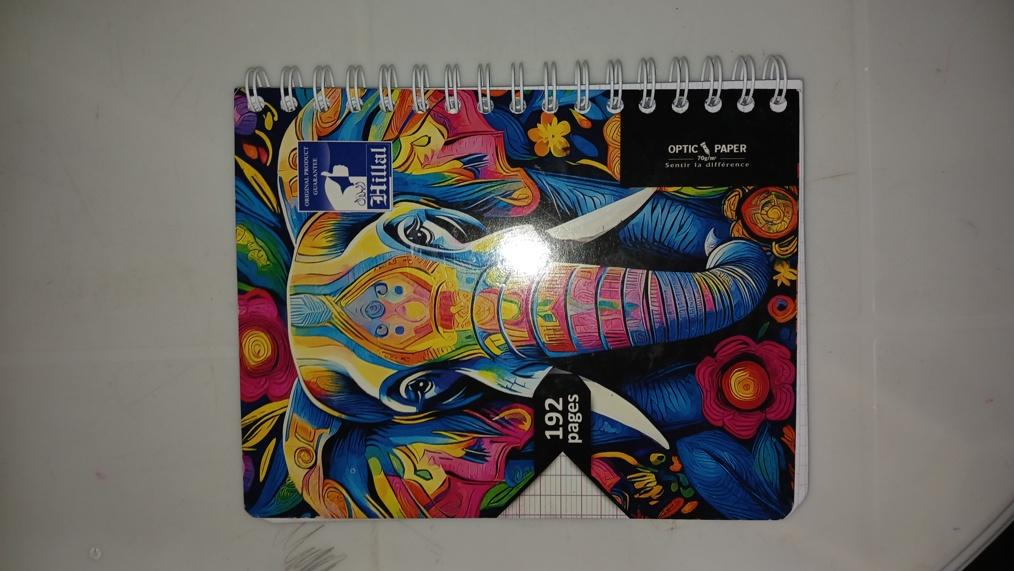notebook: (231, 52, 807, 520)
